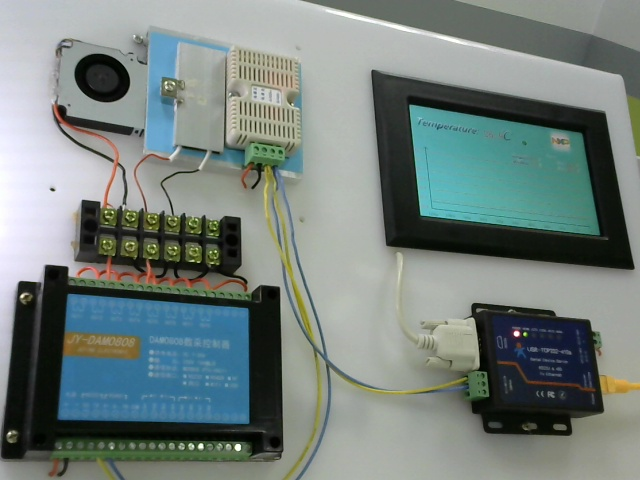fan: (52, 35, 143, 143)
modbus bridge: (469, 294, 620, 445)
relay: (3, 266, 333, 472)
termperature: (226, 45, 315, 151)
